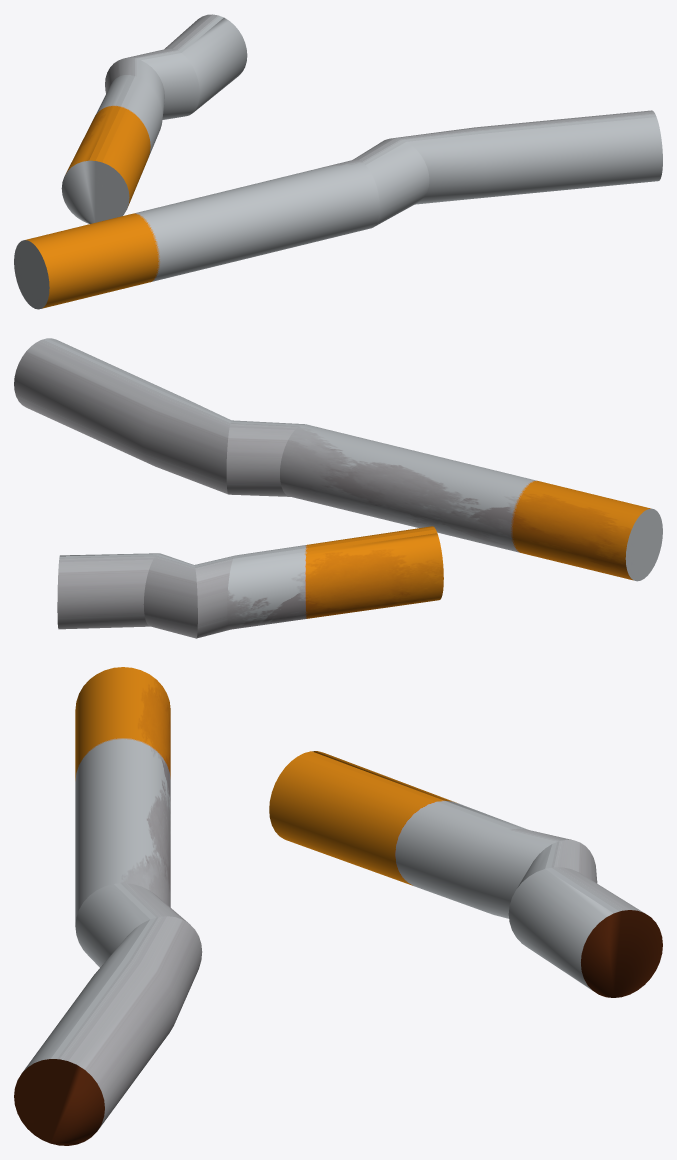
The model's file is cig.fbx.
3 views of the same model, one above another, from view 1: azimuth 30°, elevation 25°; view 2: azimuth 150°, elevation 25°; view 3: azimuth 270°, elevation 25° (orthographic). The views are drawn at different scales.
Parts seen in each view (by area): view 1: Cylinder; view 2: Cylinder; view 3: Cylinder.
Part boxes in pixels (x1,y1,x2,y2): Cylinder: (14,14,662,309); Cylinder: (14,338,662,638); Cylinder: (14,667,662,1145).
Size of the model in its own units: 97.07 by 9.82 by 66.86.
